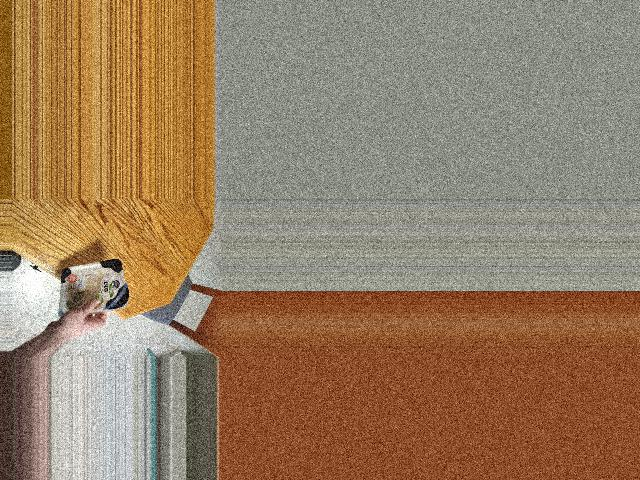cheese: (43, 261, 131, 314)
